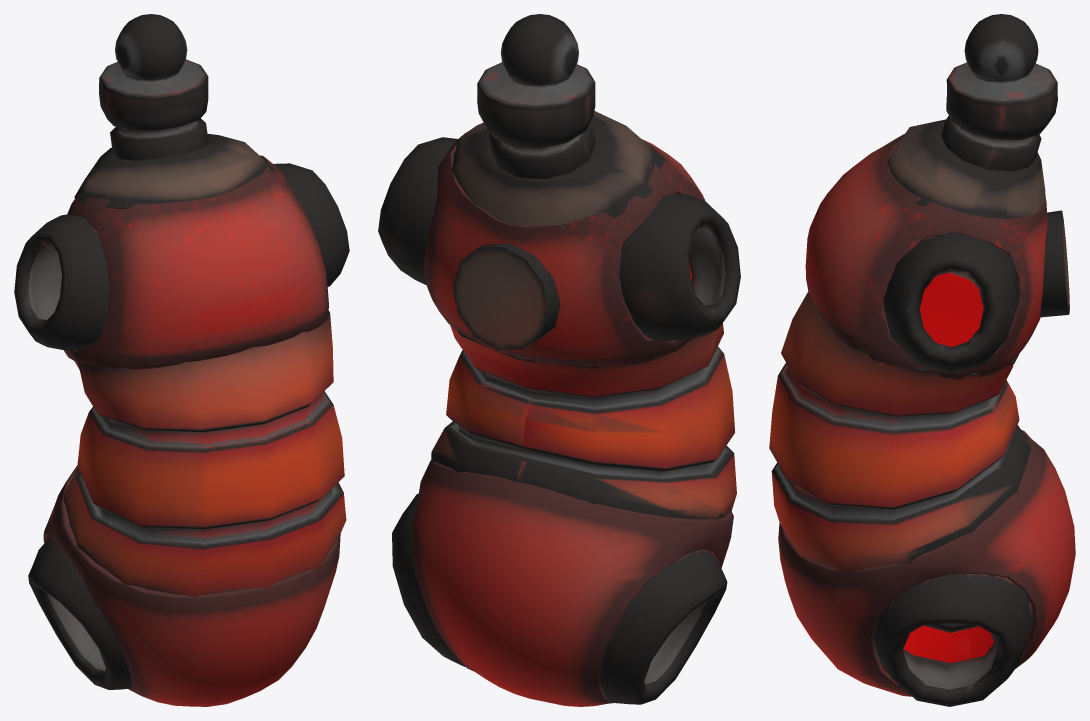
File: body.obj
The picture shows the model from 3 angles, left to right: view 1: azimuth 30°, elevation 25°; view 2: azimuth 150°, elevation 25°; view 3: azimuth 270°, elevation 25°; orthographic projection. The views are drawn at different scales.
Visible parts, largest first — view 1: body middle_body, body chest, body lower_body, neck body, body shoulder_right, body chest_part, body hip_socket_right, body shoulder_left; view 2: body lower_body, body middle_body, body chest, neck body, body shoulder_right, body chest_part, body hip_socket_right, body back_piece, body shoulder_left, body hip_socket_left; view 3: body middle_body, body chest, body lower_body, body hip_socket_left, neck body, body shoulder_left, body chest_part, body back_piece.
Boxes of the visible parts, x1,y1,x2,y2 form: body middle_body: (63, 311, 346, 597); body chest: (63, 155, 328, 369); body lower_body: (43, 465, 340, 706); neck body: (99, 14, 208, 160); body shoulder_right: (14, 214, 109, 350); body chest_part: (74, 133, 274, 208); body hip_socket_right: (28, 537, 131, 689); body shoulder_left: (273, 163, 349, 286); body lower_body: (412, 460, 733, 706); body middle_body: (431, 262, 736, 519); body chest: (423, 122, 705, 368); neck body: (477, 14, 595, 179); body shoulder_right: (619, 193, 740, 341); body chest_part: (451, 111, 664, 230); body hip_socket_right: (599, 549, 727, 704); body back_piece: (452, 243, 560, 349); body shoulder_left: (378, 137, 457, 285); body hip_socket_left: (392, 493, 465, 666); body middle_body: (769, 271, 1031, 574); body chest: (805, 134, 1047, 379); body lower_body: (778, 430, 1075, 696); body hip_socket_left: (873, 573, 1033, 706); neck body: (941, 14, 1057, 171); body shoulder_left: (883, 231, 1020, 373); body chest_part: (886, 119, 1045, 219); body back_piece: (1040, 210, 1069, 317).
Size of the model in its own units: 0.4718 by 0.9608 by 0.4011.
Materials: 1 (1 with a texture image).
